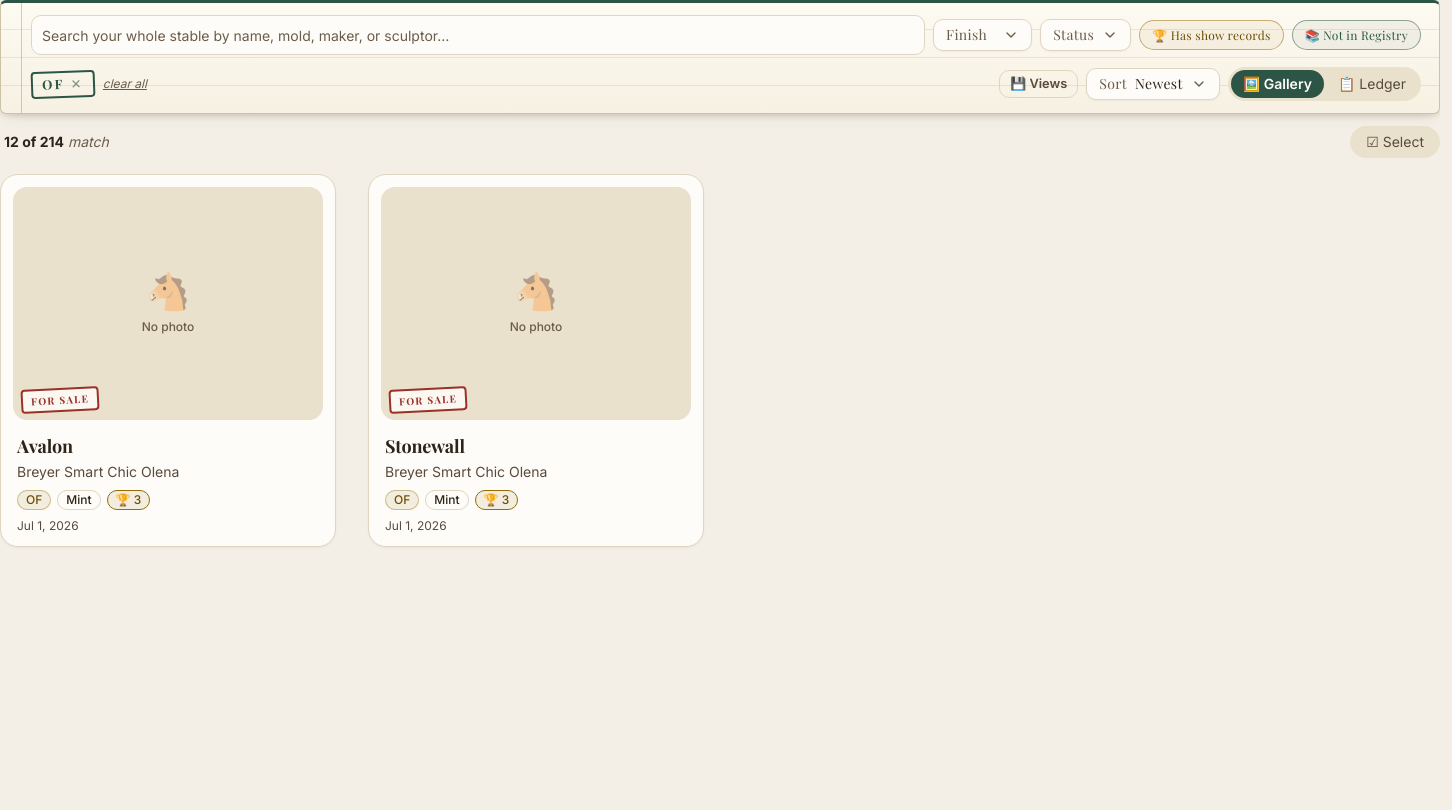
Test: StableBrowser › 'Select all N matching' selects across pages via the server
Click the button "☑ Select" at (1395, 142), box [1350, 126, 1440, 158]
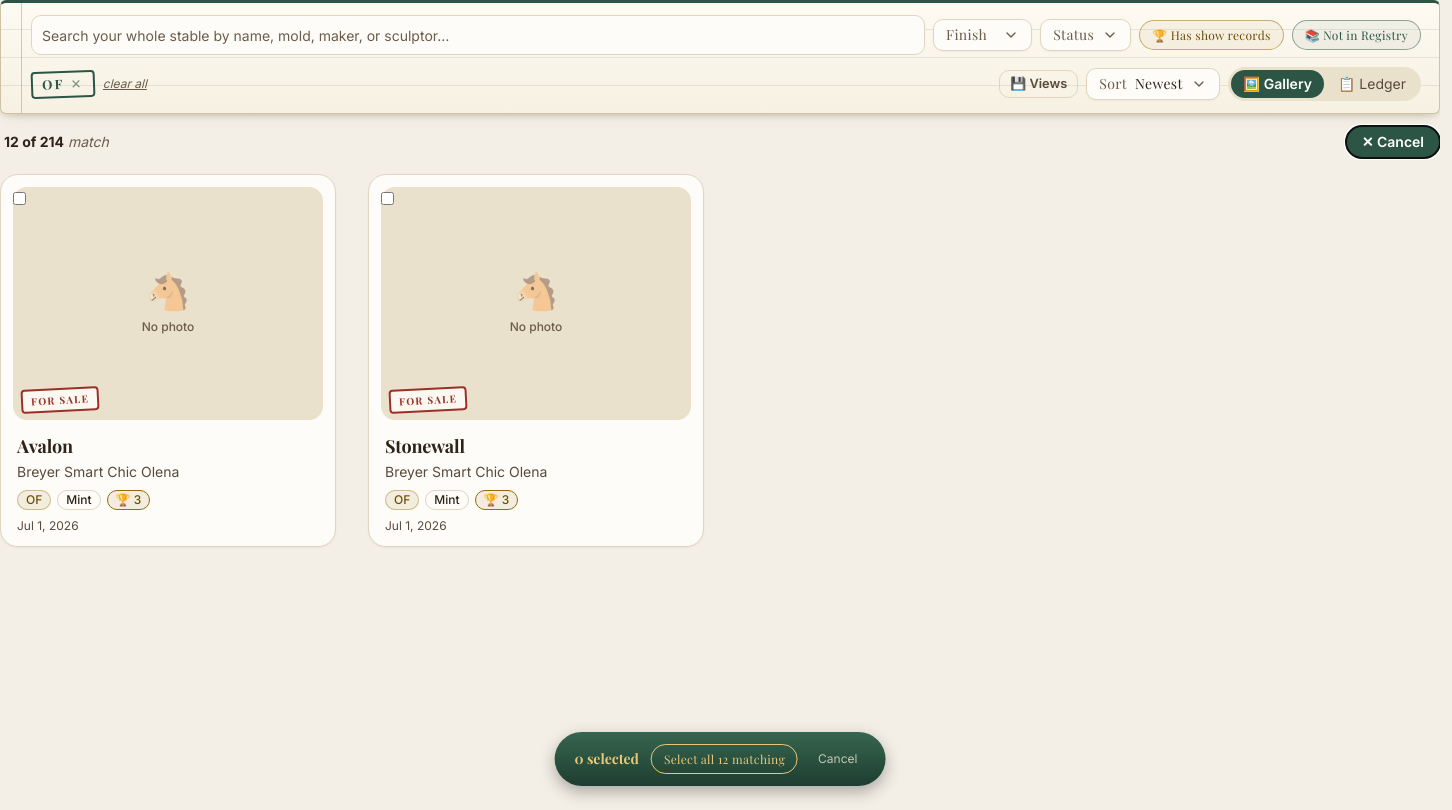
Click the button "Select all 12 matching" at (724, 759), box [651, 744, 798, 774]
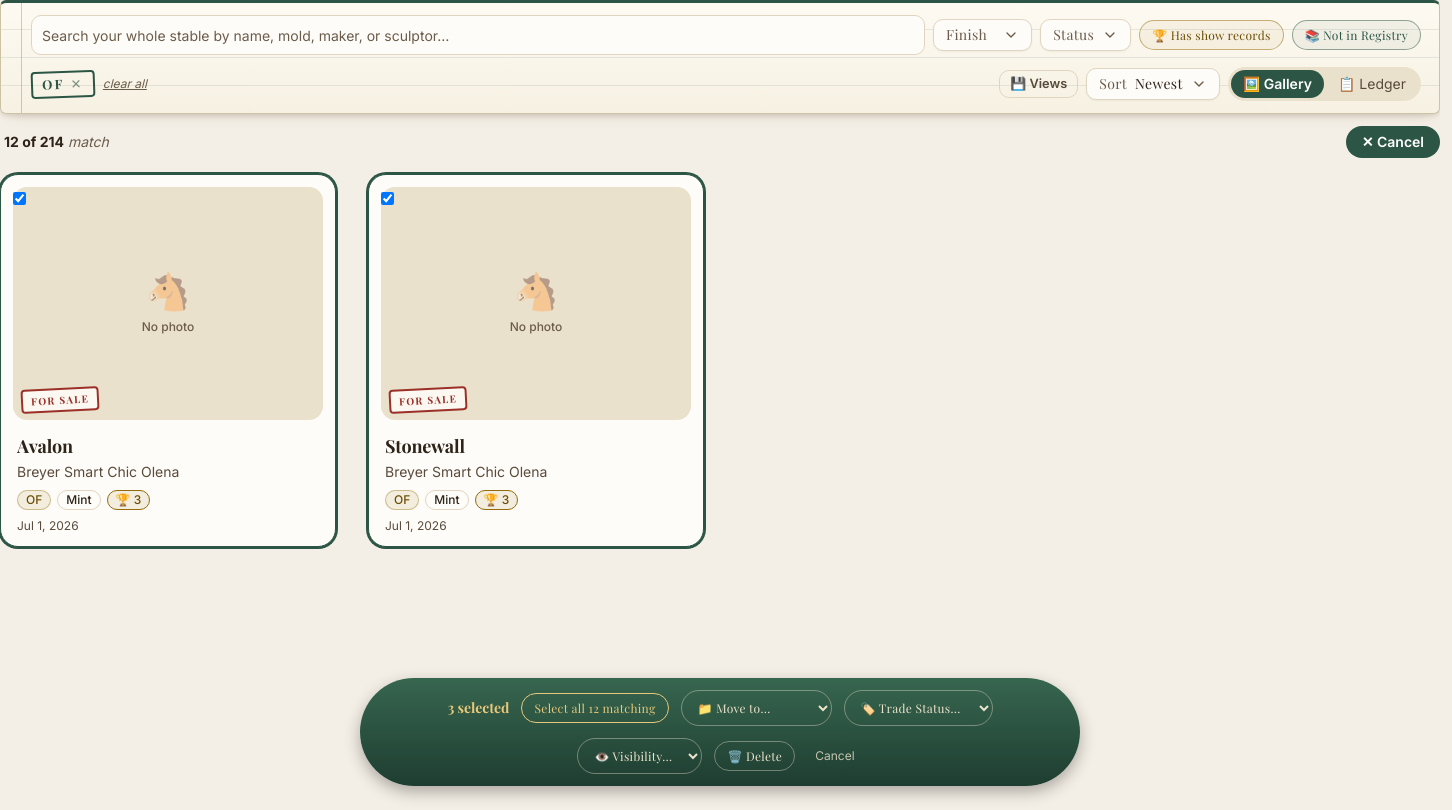
Expected: the text "3 selected" is shown, [447, 698, 510, 718]
